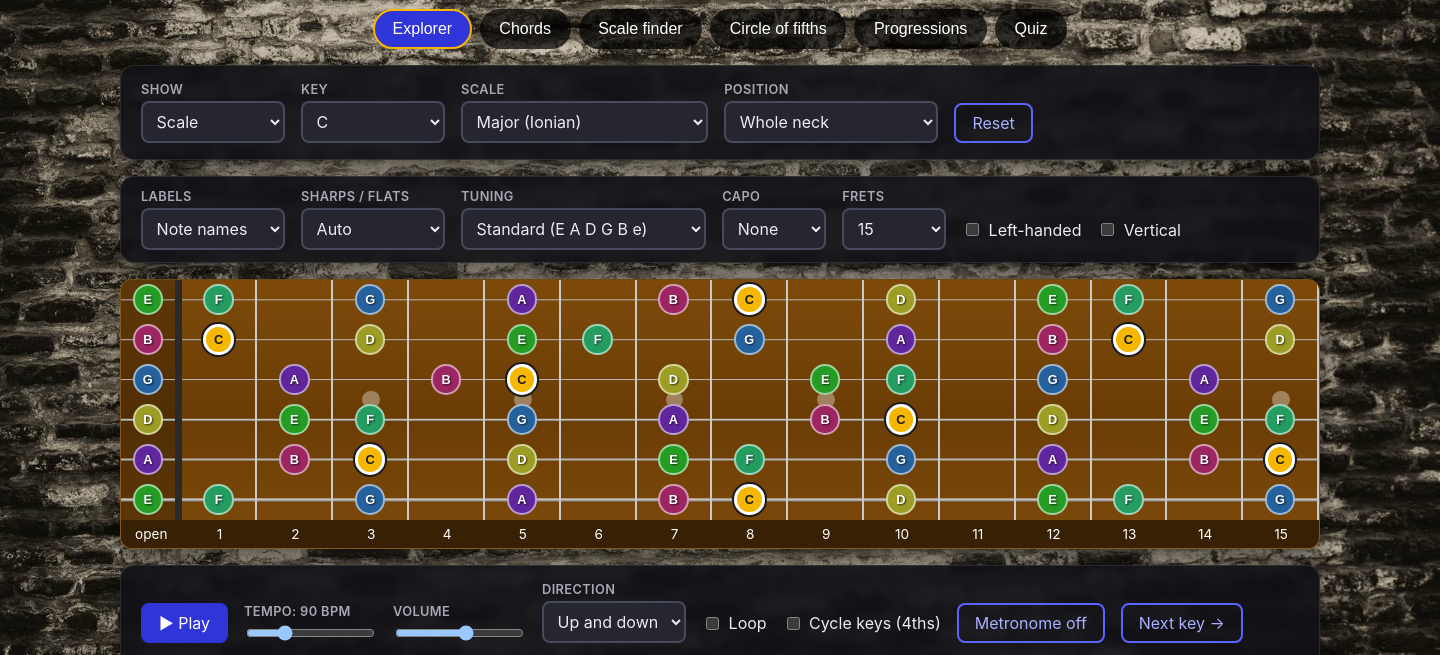
Scenario: chords tab includes the CAGED section with all five shapes
Click the tab "Chords" at (525, 29), box top-left (480, 9), bottom-right (571, 49)
(page scrolled)
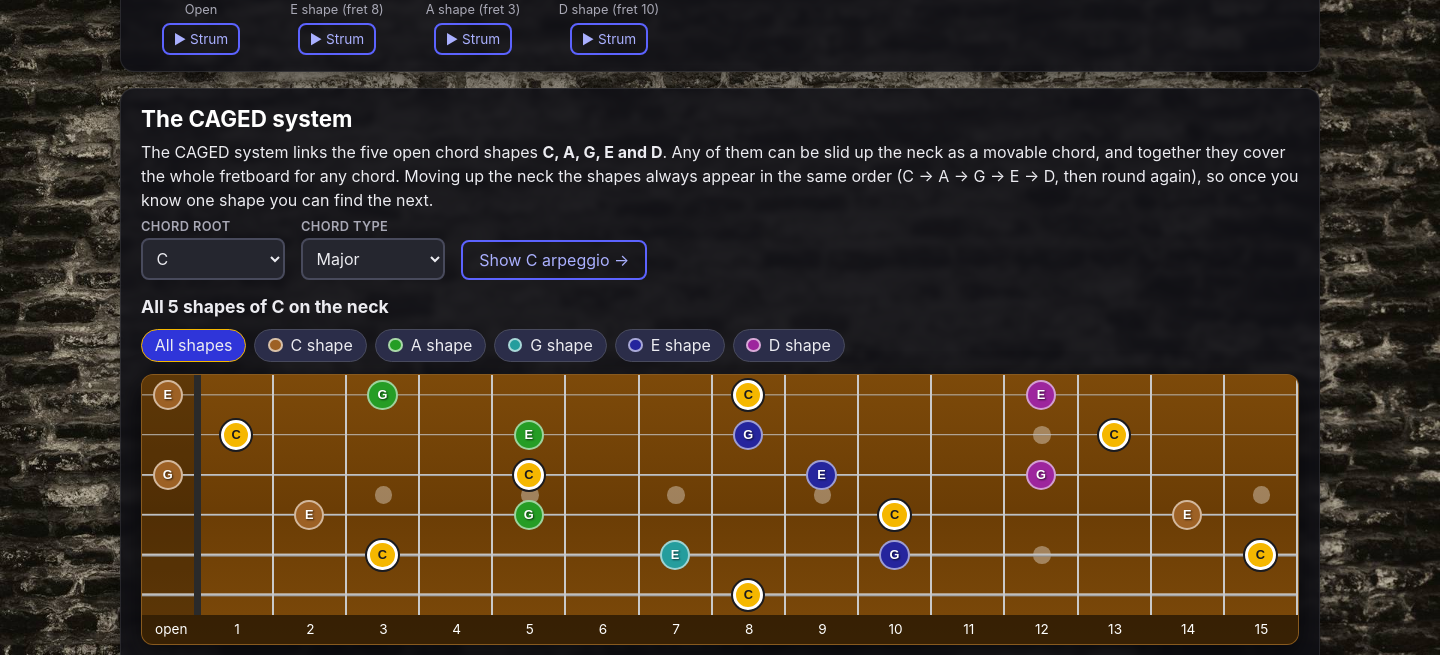
Now the heading "The CAGED system" is shown, box top-left (141, 105), bottom-right (352, 132)
Now the heading "All 5 shapes of C on the neck" is shown, box top-left (141, 296), bottom-right (389, 317)
Now the button "A shape" is shown, box top-left (374, 329), bottom-right (486, 362)
Select "Minor" in the dropdown labelled "Chord type" at (373, 259), box top-left (301, 238), bottom-right (445, 280)
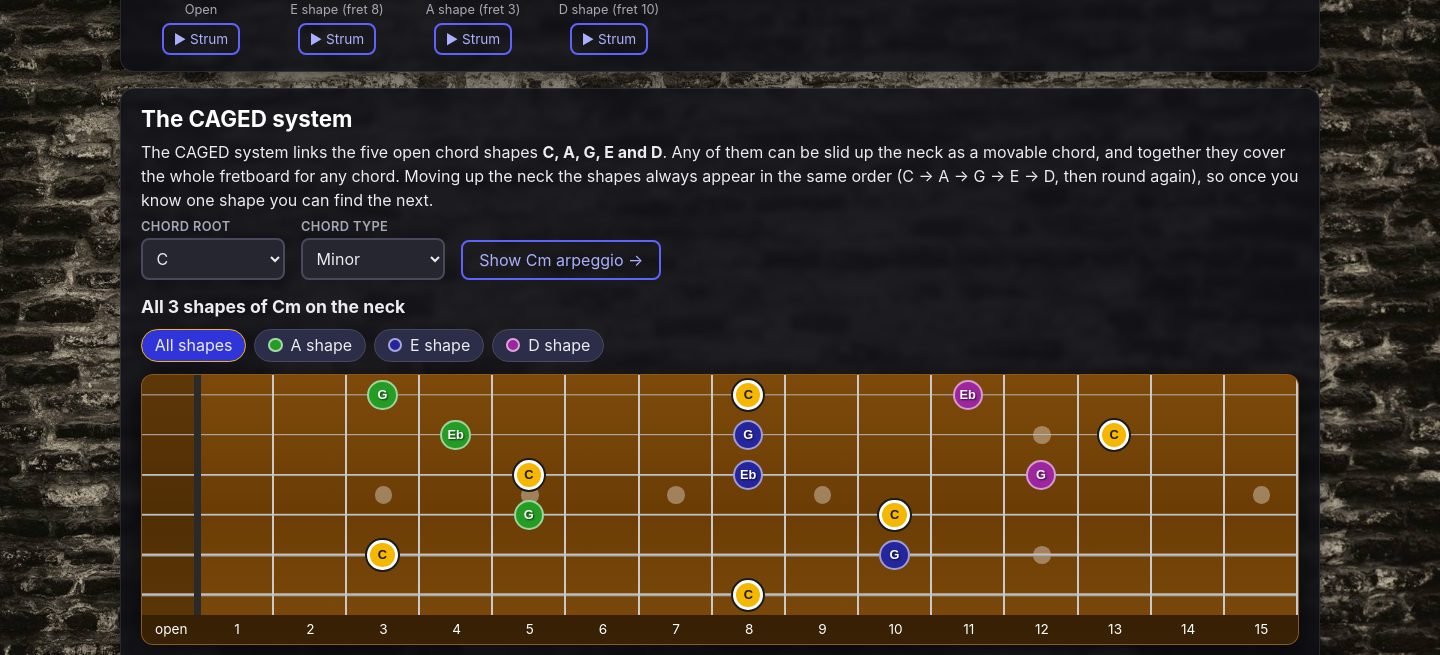
Now the heading "All 3 shapes of Cm on the neck" is shown, box top-left (141, 296), bottom-right (405, 317)
